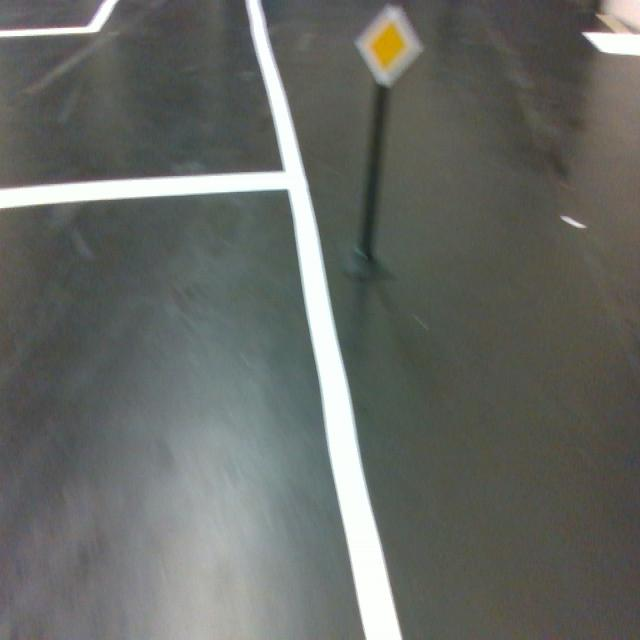priority-sign: (352, 0, 424, 90)
